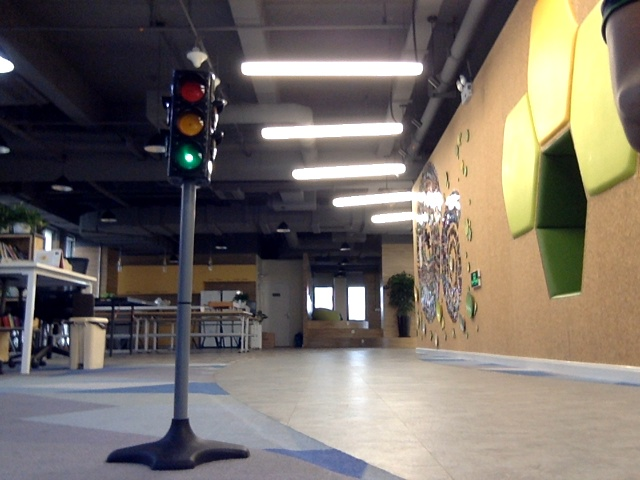green: (167, 74, 205, 169)
